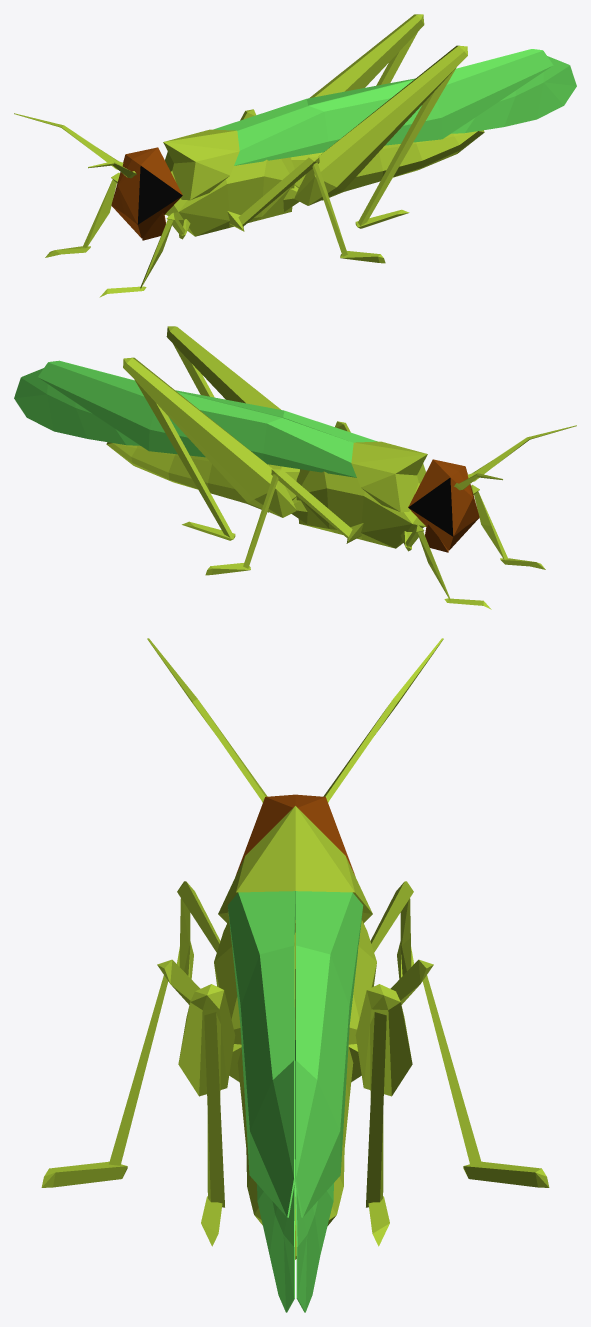
File: grasshopper.fbx
3 renders of one model, top to bottom at view 1: azimuth 30°, elevation 25°; view 2: azimuth 150°, elevation 25°; view 3: azimuth 270°, elevation 25°, orthographic. The views are drawn at different scales.
Parts seen in each view (by area): view 1: Grasshopper; view 2: Grasshopper; view 3: Grasshopper.
Part boxes in pixels (x1,y1,x2,y2): Grasshopper: [14, 14, 576, 297]; Grasshopper: [14, 326, 576, 609]; Grasshopper: [41, 638, 549, 1312].
Size of the model in its own units: 23 by 6.85 by 9.63.
